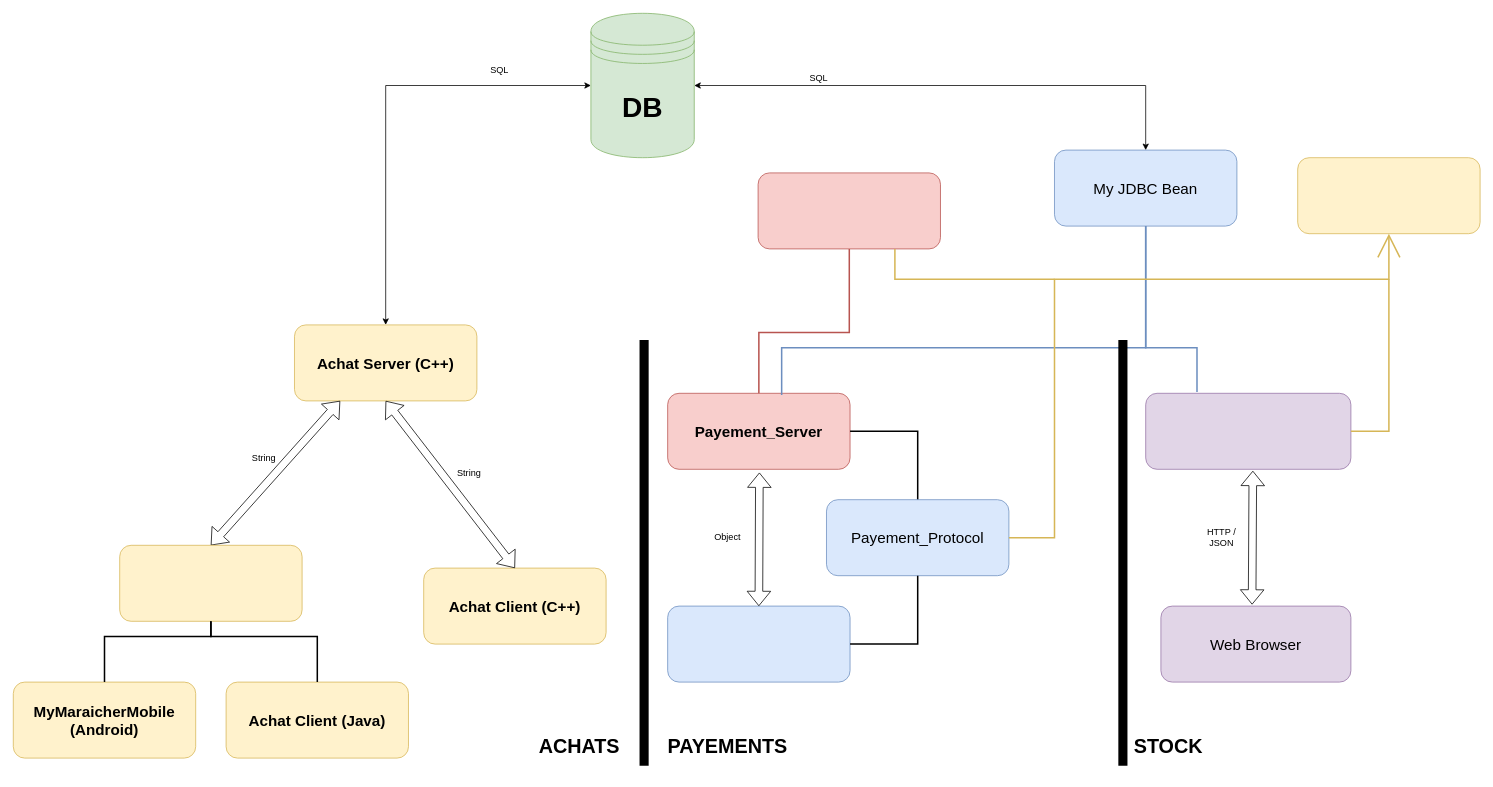
This 1493x787 diagram has some shape labels left out. Each missing label, with the box of its shape:
Crypto Library: (1297, 157, 1480, 234)
Generic Server TCP: (757, 172, 940, 249)
Payement_Client: (667, 605, 850, 682)
ProtocoleAchat (Java) <class>: (119, 545, 302, 621)
StockManagement _WebServer: (1145, 393, 1351, 469)
